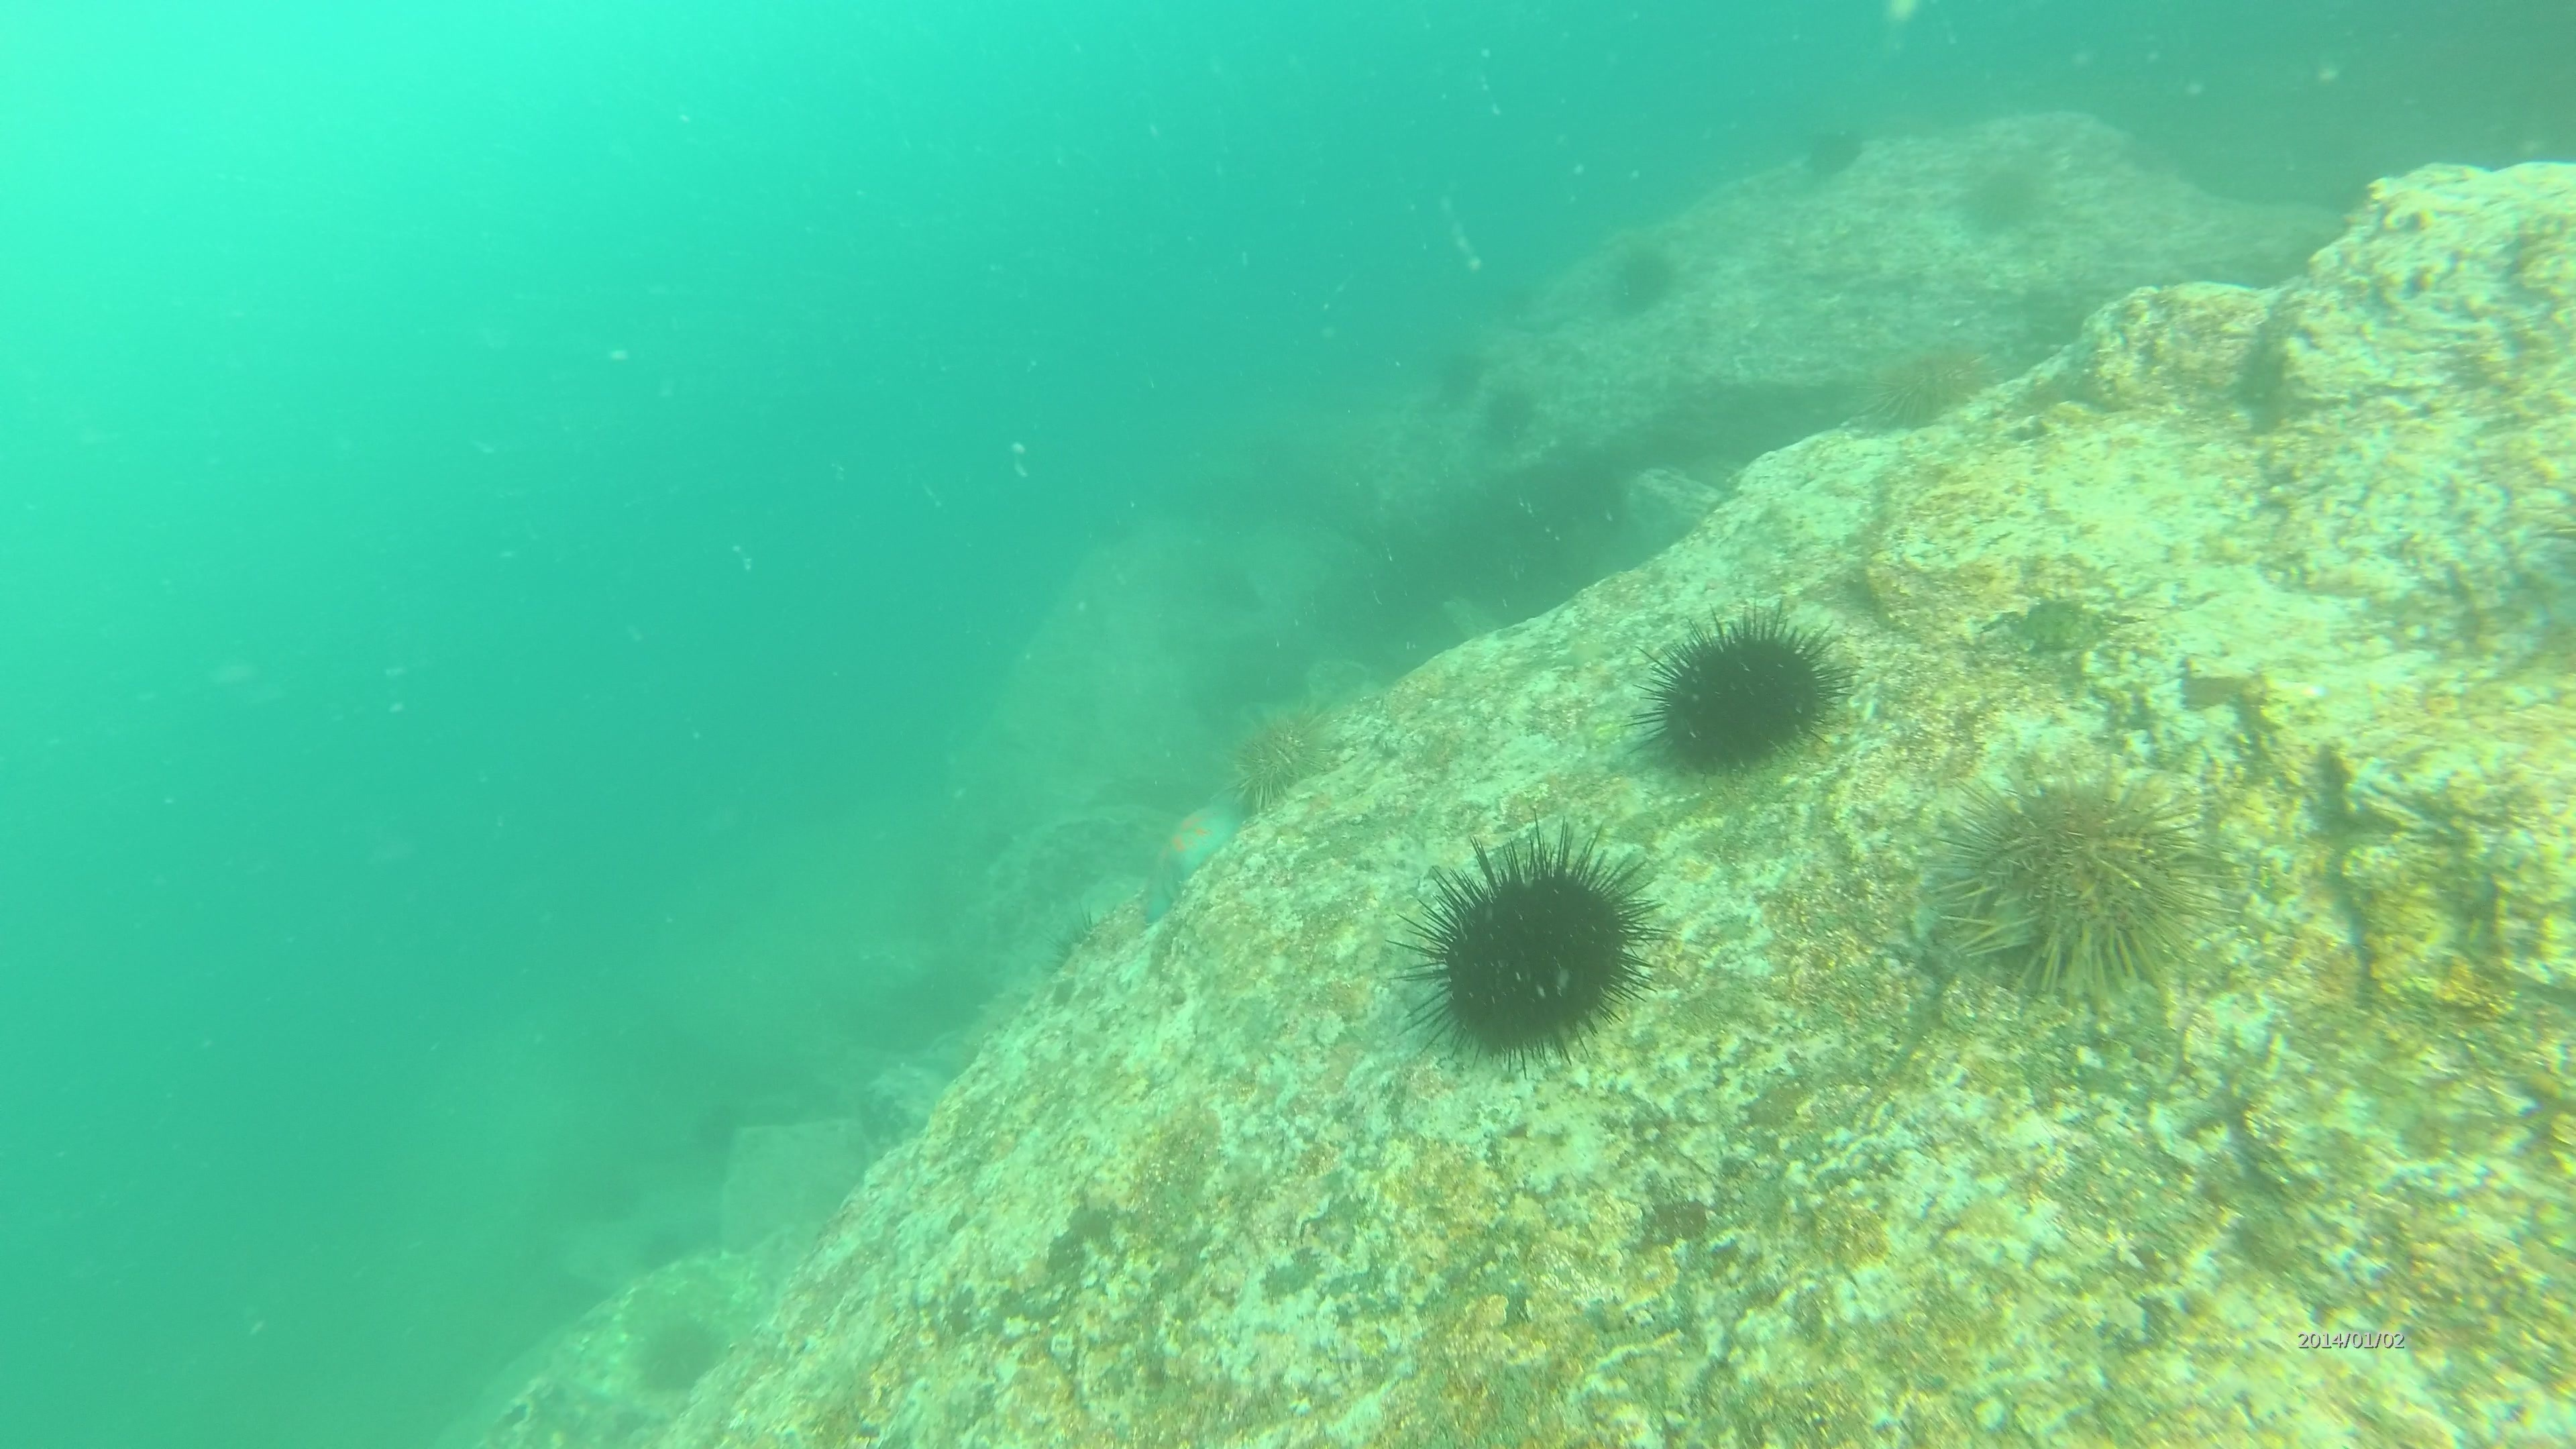echinus: (1939, 766, 2215, 1001), (1399, 826, 1663, 1067), (1637, 607, 1849, 782), (1221, 694, 1348, 817), (1854, 333, 1997, 435), (630, 1309, 729, 1398), (1951, 152, 2049, 241), (1601, 235, 1683, 320), (1474, 377, 1543, 453), (1796, 115, 1868, 184), (1428, 341, 1488, 410)
starfish: (1129, 780, 1254, 931)
